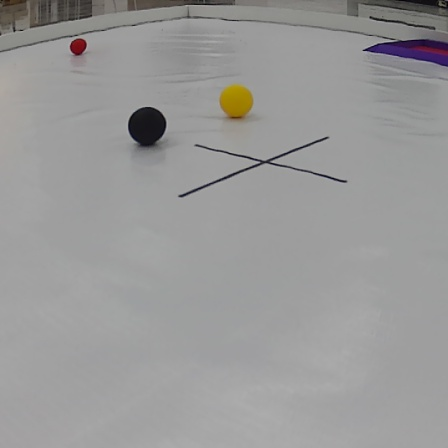black: (127, 104, 168, 144)
red: (68, 35, 89, 58)
red_aim: (371, 34, 448, 66)
yellow: (219, 83, 254, 118)
